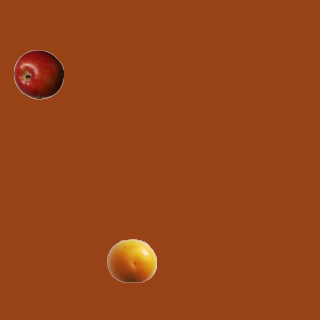Apple Braeburn: (13, 49, 63, 99)
Cherry Wax Yellow: (106, 235, 156, 285)
